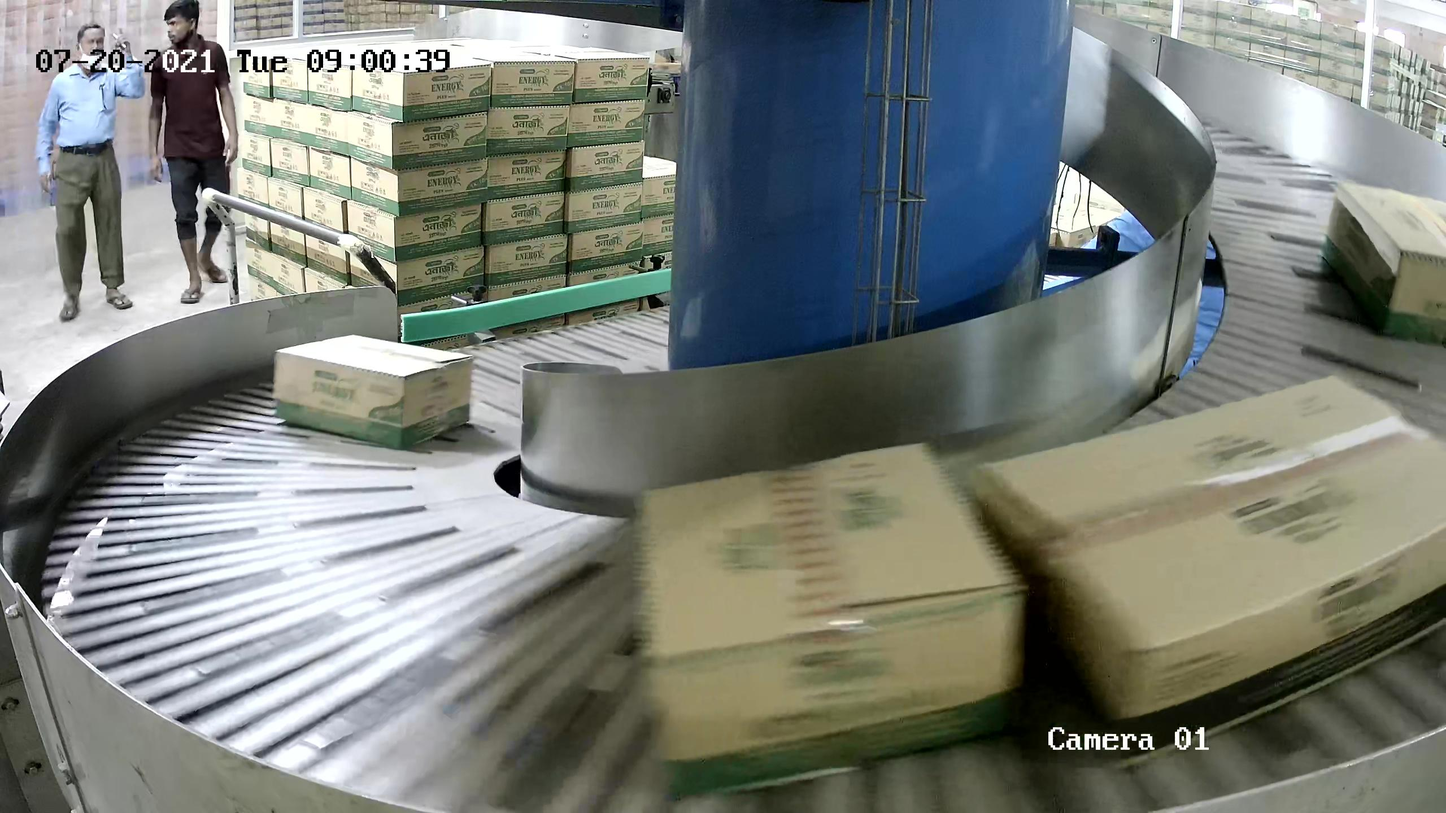Box: (964, 376, 1446, 770), (631, 439, 1026, 807), (273, 334, 475, 453), (1318, 180, 1446, 340)
